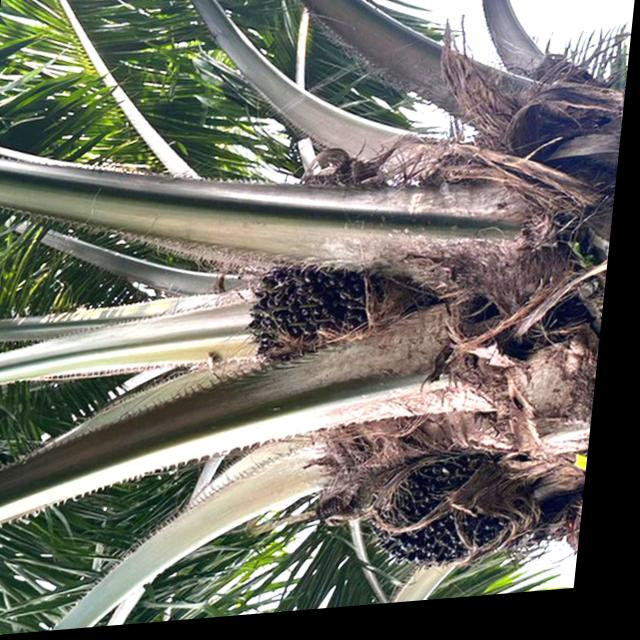ripe: (237, 250, 395, 390)
